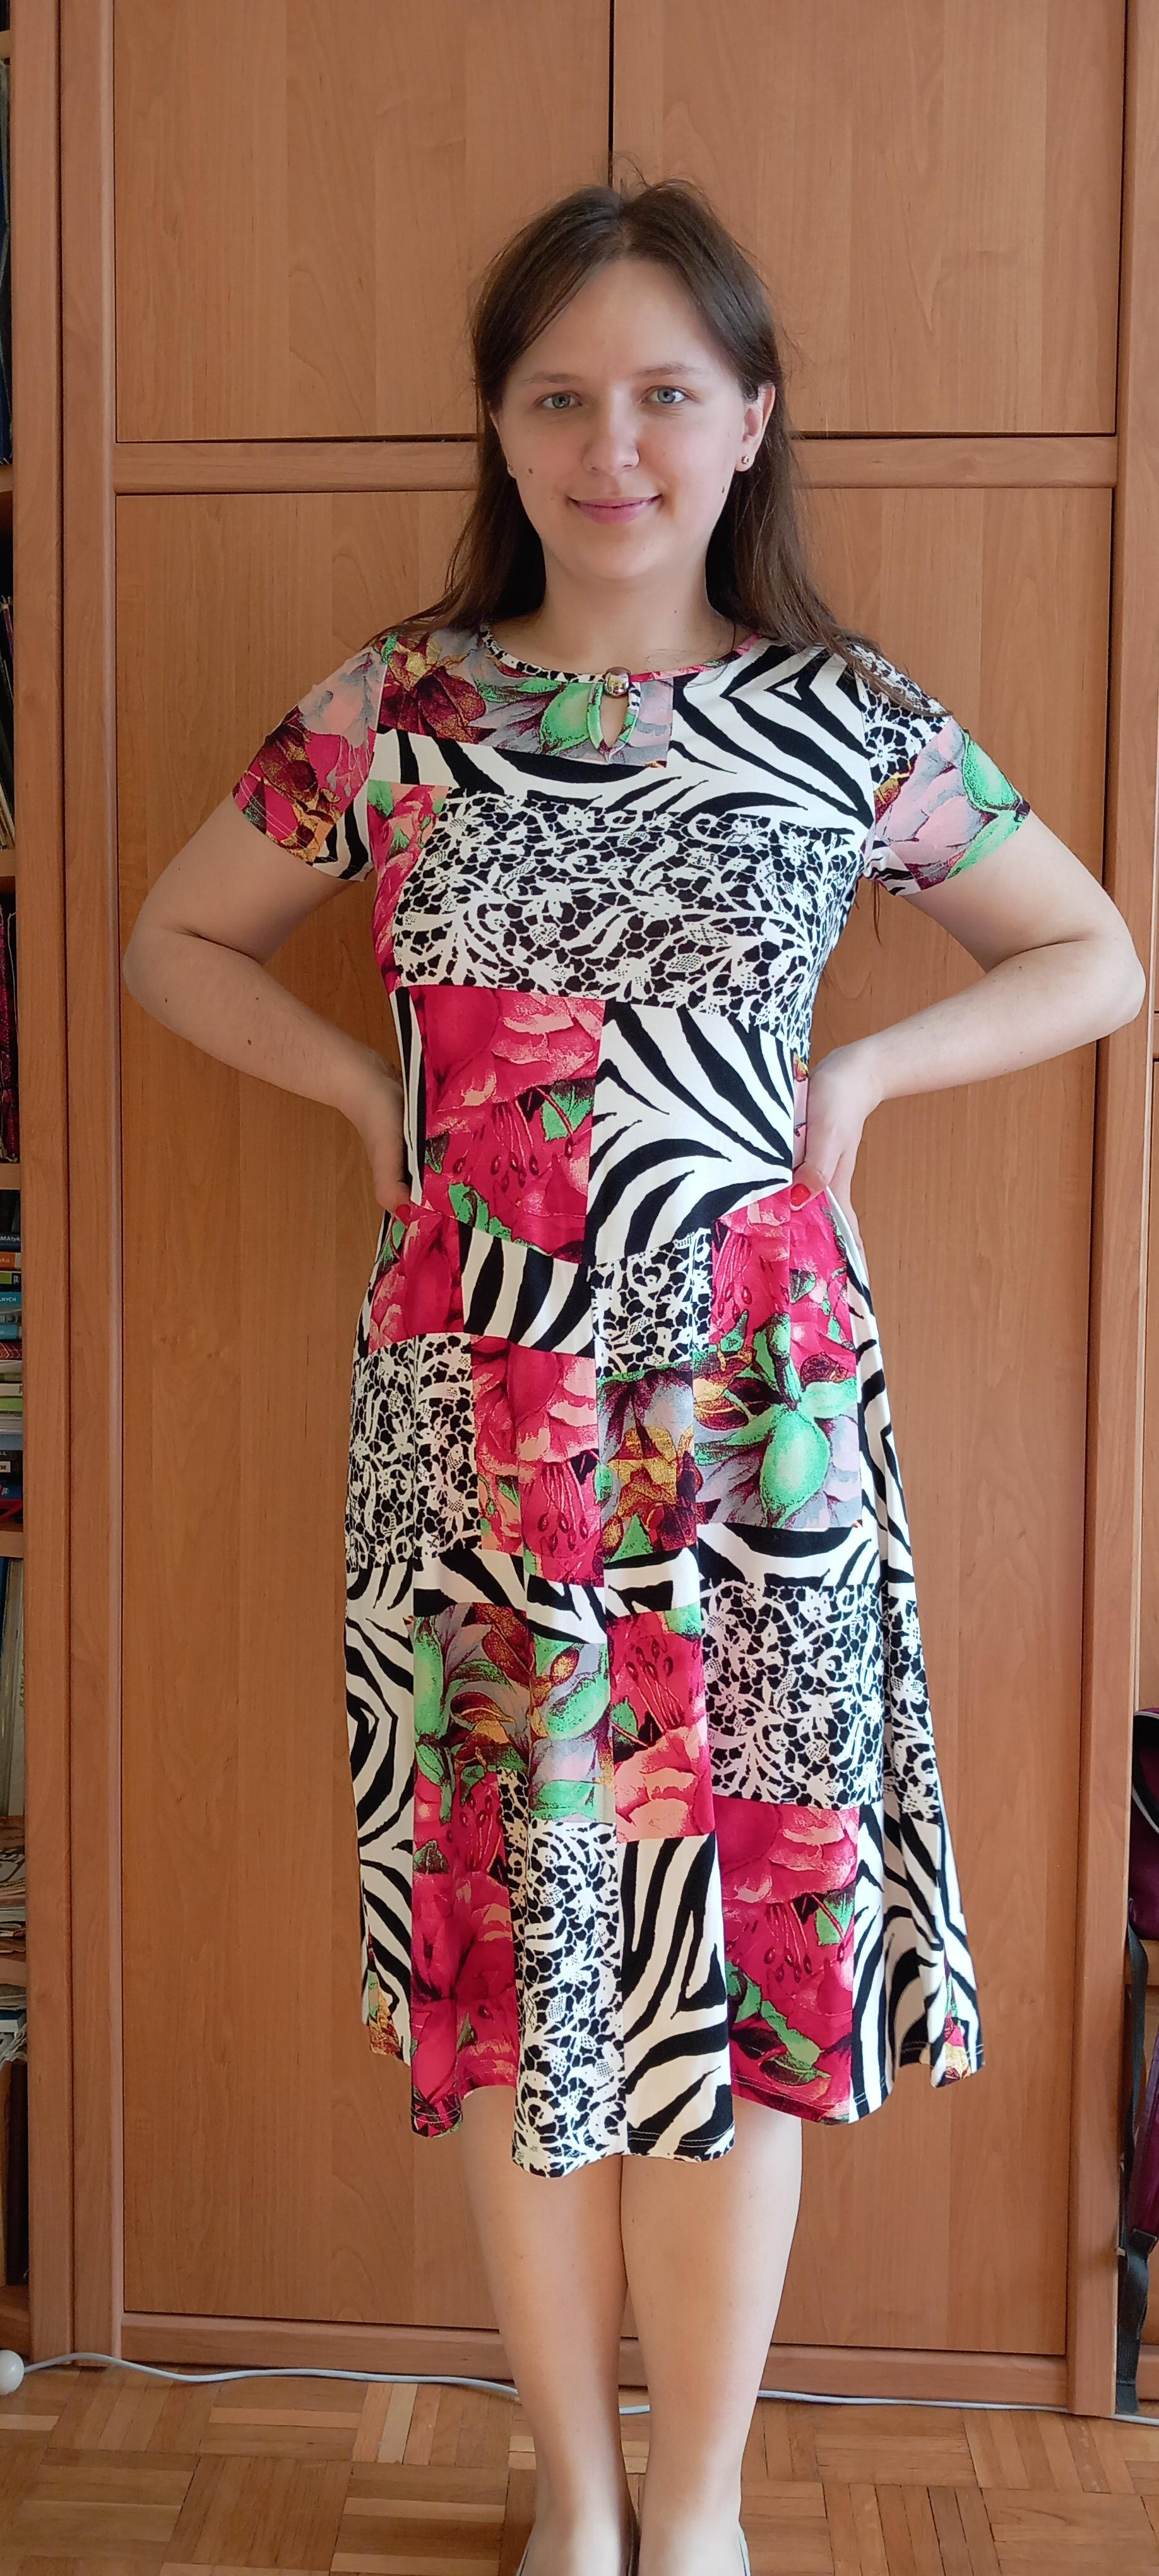dress: (233, 611, 1038, 2173)
